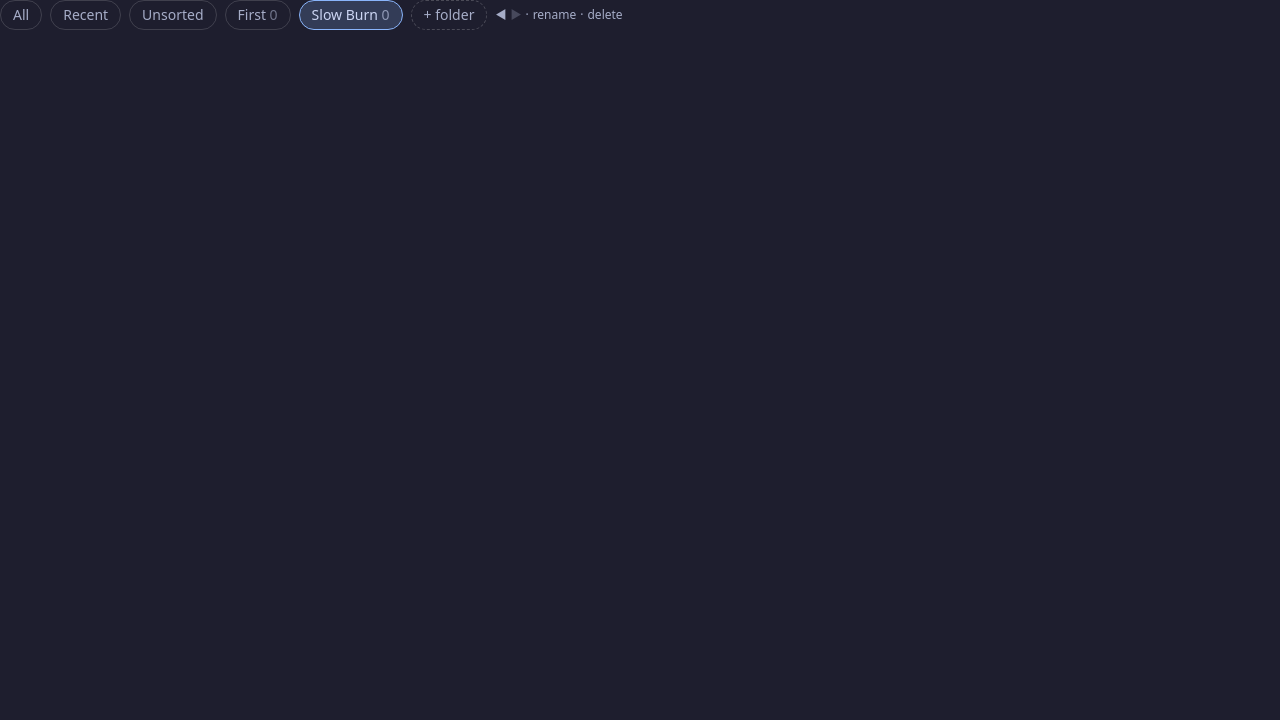
Test: deleting a folder that came from a bookmark label › says the next sync will recreate it
Click the button titled "Delete folder". click: (605, 15)
box: x1=588 y1=7 x2=623 y2=23
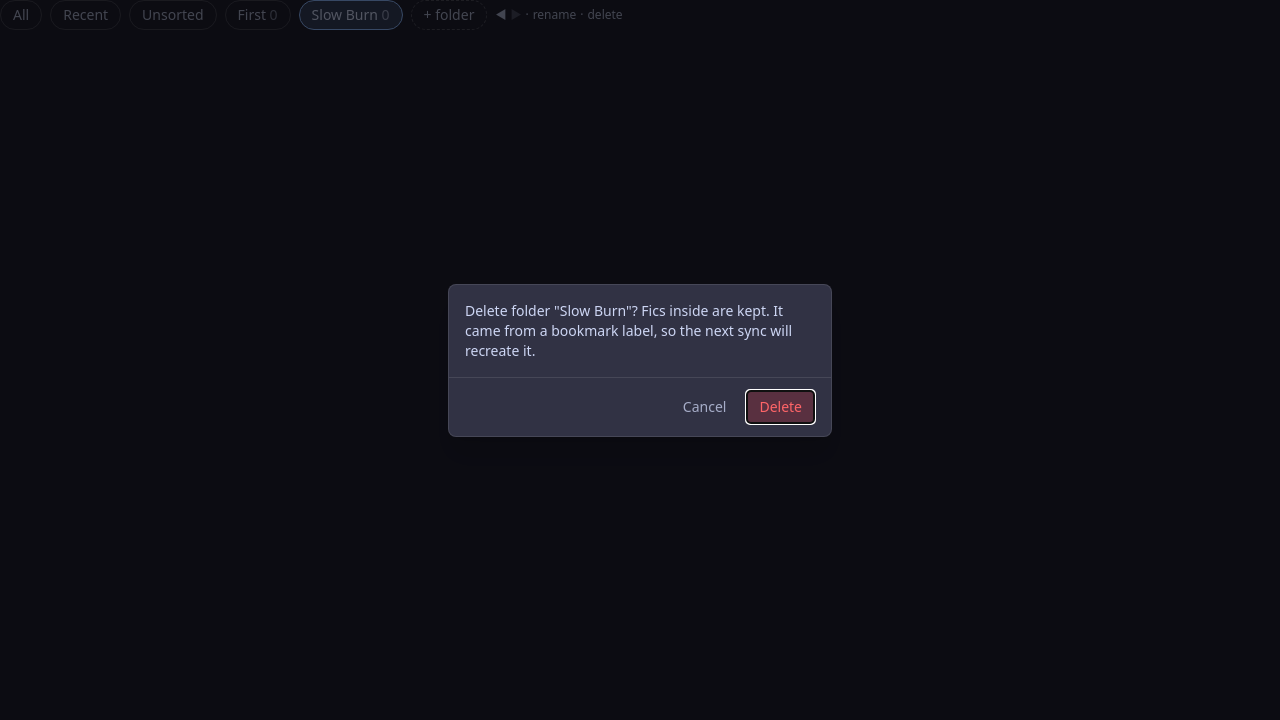
Result: the heading "next sync will recreate it" is shown at x1=465 y1=300 x2=792 y2=360
